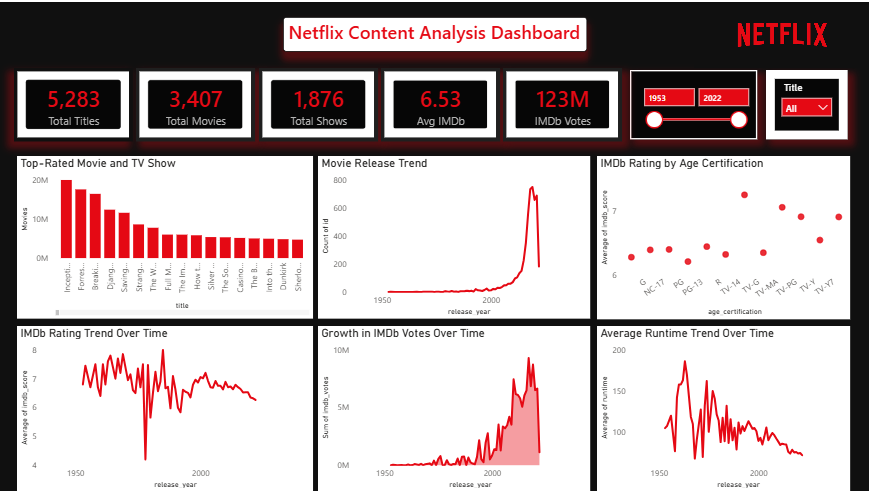

This screenshot's page, from the dashboard's own definition file:
{"tool":"powerbi","page":{"name":"Dashboard","canvas":[1280,720],"ordinal":0},"visuals":[{"type":"clusteredColumnChart","title":"Top-Rated Movie and TV Show","fields":{"Category":["Netflix TV Shows and Movies.title"],"Y":["Avg(Netflix TV Shows and Movies.Score_votes)"]},"box":[26.9,225.6,434.7,239],"z":0},{"type":"lineChart","title":"Movie Release Trend","fields":{"Category":["Netflix TV Shows and Movies.release_year"],"Y":["Count(Netflix TV Shows and Movies.id)"]},"box":[469,225.6,400.3,239],"z":1000},{"type":"slicer","fields":{"Values":["Netflix TV Shows and Movies.release_year"]},"box":[927.6,100.1,186.7,101.6],"z":2000},{"type":"slicer","fields":{"Values":["Netflix TV Shows and Movies.type"]},"box":[1126.3,100.1,119.5,101.6],"z":3000},{"type":"lineChart","title":"IMDb Rating Trend Over Time","fields":{"Category":["Netflix TV Shows and Movies.release_year"],"Y":["Avg(Netflix TV Shows and Movies.imdb_score)"]},"box":[26.9,476.5,434.7,243.5],"z":4000},{"type":"areaChart","title":"Growth in IMDb Votes Over Time","fields":{"Category":["Netflix TV Shows and Movies.release_year"],"Y":["Sum(Netflix TV Shows and Movies.imdb_votes)"]},"box":[469,476.5,400.3,243.5],"z":5000},{"type":"lineChart","title":"Average Runtime Trend Over Time","fields":{"Y":["Avg(Netflix TV Shows and Movies.runtime)"],"Category":["Netflix TV Shows and Movies.release_year"]},"box":[878.3,476.5,372,243.5],"z":6000},{"type":"scatterChart","title":"IMDb Rating by Age Certification","fields":{"Y":["Avg(Netflix TV Shows and Movies.imdb_score)"],"X":["Netflix TV Shows and Movies (2).age_certification"]},"box":[878.7,226.3,371.8,239.5],"z":7000},{"type":"cardVisual","fields":{"Data":["Netflix TV Shows and Movies.Total Titles"]},"box":[22.4,97.1,174.8,107.6],"z":8000},{"type":"cardVisual","fields":{"Data":["Netflix TV Shows and Movies.Total Movies"]},"box":[202,97.1,174.8,107.6],"z":9000},{"type":"cardVisual","fields":{"Data":["Netflix TV Shows and Movies.Total Shows"]},"box":[381.7,97.1,174.8,107.6],"z":10000},{"type":"cardVisual","fields":{"Data":["Netflix TV Shows and Movies.Avg IMDb Rating"]},"box":[561.3,97.1,174.8,107.6],"z":11000},{"type":"cardVisual","fields":{"Data":["Netflix TV Shows and Movies.Total IMDb Votes"]},"box":[740.9,97.1,174.8,107.6],"z":12000},{"type":"textbox","title":"Netflix Content Analysis Dashboard","box":[417.3,22,446.7,51.4],"z":13000},{"type":"image","box":[1021.2,0,258.6,97],"z":14000}]}

Visuals, with their boxes in screenshot pixels (x1, y1, x2, y2), scaled from the page's 1280x720 canvas onto the 869x491 screenshot:
"Top-Rated Movie and TV Show" clusteredColumnChart: {"x1": 18, "y1": 154, "x2": 313, "y2": 317}
"Movie Release Trend" lineChart: {"x1": 318, "y1": 154, "x2": 590, "y2": 317}
slicer - Netflix TV Shows and Movies.release_year: {"x1": 630, "y1": 68, "x2": 757, "y2": 138}
slicer - Netflix TV Shows and Movies.type: {"x1": 765, "y1": 68, "x2": 846, "y2": 138}
"IMDb Rating Trend Over Time" lineChart: {"x1": 18, "y1": 325, "x2": 313, "y2": 490}
"Growth in IMDb Votes Over Time" areaChart: {"x1": 318, "y1": 325, "x2": 590, "y2": 490}
"Average Runtime Trend Over Time" lineChart: {"x1": 596, "y1": 325, "x2": 849, "y2": 490}
"IMDb Rating by Age Certification" scatterChart: {"x1": 597, "y1": 154, "x2": 849, "y2": 318}
cardVisual - Netflix TV Shows and Movies.Total Titles: {"x1": 15, "y1": 66, "x2": 134, "y2": 140}
cardVisual - Netflix TV Shows and Movies.Total Movies: {"x1": 137, "y1": 66, "x2": 256, "y2": 140}
cardVisual - Netflix TV Shows and Movies.Total Shows: {"x1": 259, "y1": 66, "x2": 378, "y2": 140}
cardVisual - Netflix TV Shows and Movies.Avg IMDb Rating: {"x1": 381, "y1": 66, "x2": 500, "y2": 140}
cardVisual - Netflix TV Shows and Movies.Total IMDb Votes: {"x1": 503, "y1": 66, "x2": 622, "y2": 140}
"Netflix Content Analysis Dashboard" textbox: {"x1": 283, "y1": 15, "x2": 587, "y2": 50}
image: {"x1": 693, "y1": 0, "x2": 868, "y2": 66}
